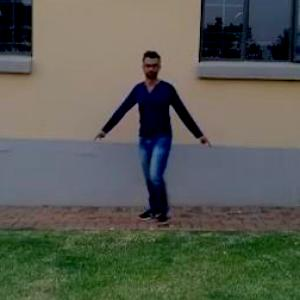land: (89, 47, 218, 240)
